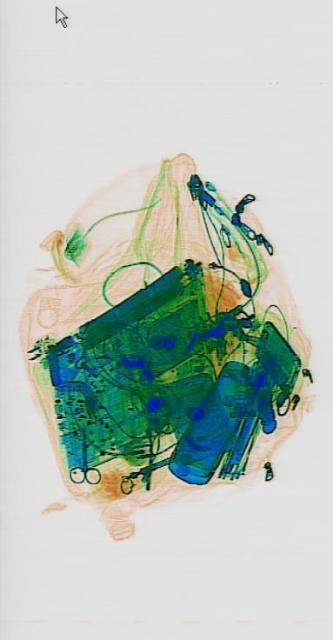Scissors: (68, 429, 99, 485)
